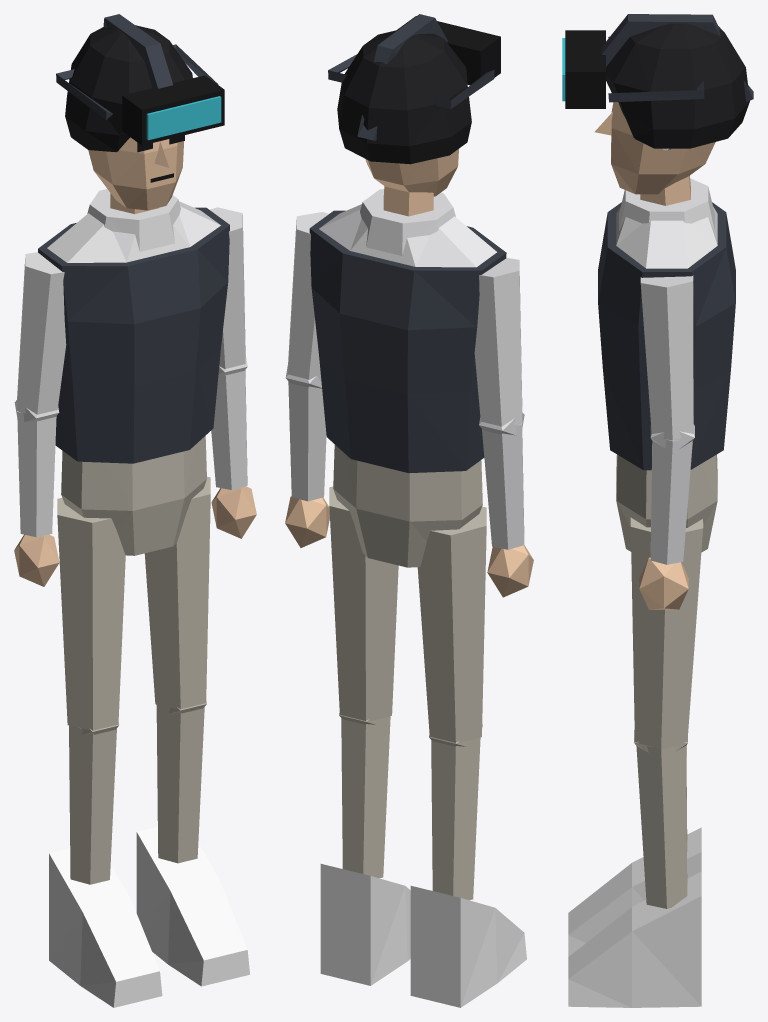
The model's file is pivot.glb.
3 renders of one model, left to right at view 1: azimuth 30°, elevation 25°; view 2: azimuth 150°, elevation 25°; view 3: azimuth 270°, elevation 25°, orthographic. The views are drawn at different scales.
Parts seen in each view (by area): view 1: chest_mesh, shin_r_mesh, shin_l_mesh, thigh_r_mesh, head_mesh, thigh_l_mesh, hips_mesh, upper_arm_r_mesh, prop_mesh, forearm_r_mesh, forearm_l_mesh, upper_arm_l_mesh (+1 smaller); view 2: chest_mesh, shin_r_mesh, head_mesh, shin_l_mesh, thigh_r_mesh, thigh_l_mesh, hips_mesh, upper_arm_r_mesh, forearm_r_mesh, forearm_l_mesh, upper_arm_l_mesh, prop_mesh (+1 smaller); view 3: chest_mesh, shin_l_mesh, head_mesh, thigh_l_mesh, upper_arm_l_mesh, forearm_l_mesh, prop_mesh, hips_mesh, shin_r_mesh, head_detail.
Part boxes in pixels (x1=…): chest_mesh: x1=38, y1=189, x2=229, y2=463; shin_r_mesh: x1=49, y1=725, x2=162, y2=1007; shin_l_mesh: x1=136, y1=705, x2=249, y2=986; thigh_r_mesh: x1=57, y1=498, x2=125, y2=734; head_mesh: x1=65, y1=25, x2=192, y2=214; thigh_l_mesh: x1=144, y1=476, x2=210, y2=713; hips_mesh: x1=61, y1=436, x2=206, y2=555; upper_arm_r_mesh: x1=14, y1=252, x2=66, y2=422; prop_mesh: x1=56, y1=44, x2=224, y2=145; forearm_r_mesh: x1=14, y1=411, x2=59, y2=586; forearm_l_mesh: x1=211, y1=370, x2=256, y2=538; upper_arm_l_mesh: x1=209, y1=207, x2=247, y2=375; chest_mesh: x1=309, y1=189, x2=506, y2=472; shin_r_mesh: x1=410, y1=737, x2=526, y2=1007; head_mesh: x1=337, y1=30, x2=471, y2=216; shin_l_mesh: x1=320, y1=716, x2=410, y2=985; thigh_r_mesh: x1=417, y1=506, x2=486, y2=746; thigh_l_mesh: x1=329, y1=486, x2=398, y2=724; hips_mesh: x1=333, y1=444, x2=482, y2=567; upper_arm_r_mesh: x1=474, y1=258, x2=524, y2=435; forearm_r_mesh: x1=482, y1=423, x2=533, y2=597; forearm_l_mesh: x1=285, y1=381, x2=329, y2=547; upper_arm_l_mesh: x1=285, y1=212, x2=328, y2=388; prop_mesh: x1=328, y1=16, x2=500, y2=109; chest_mesh: x1=598, y1=178, x2=735, y2=470; shin_l_mesh: x1=568, y1=745, x2=701, y2=1007; head_mesh: x1=606, y1=23, x2=749, y2=205; thigh_l_mesh: x1=630, y1=517, x2=703, y2=752; upper_arm_l_mesh: x1=640, y1=275, x2=694, y2=449; forearm_l_mesh: x1=639, y1=439, x2=692, y2=609; prop_mesh: x1=562, y1=30, x2=704, y2=108; hips_mesh: x1=616, y1=454, x2=717, y2=552; shin_r_mesh: x1=568, y1=745, x2=701, y2=956; head_detail: x1=594, y1=14, x2=753, y2=150.
Bounding box in the file's own units: 0.4765 × 1.81 × 0.3291.
